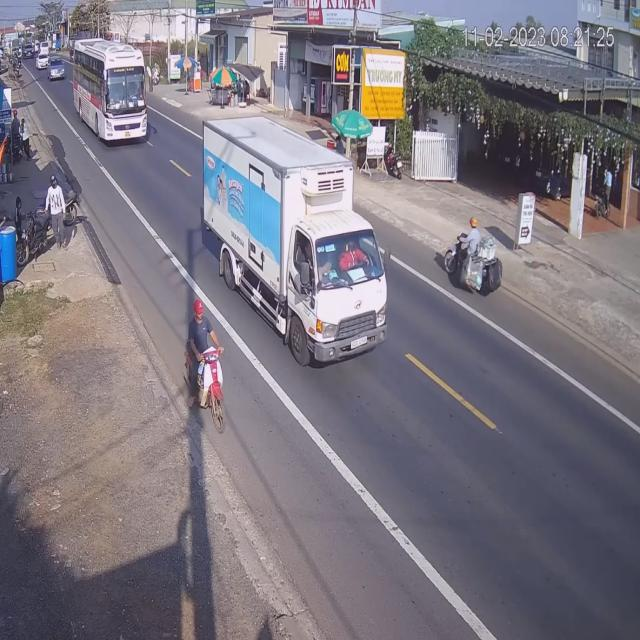bus: (75, 38, 150, 146)
car: (51, 54, 68, 83)
motorbike: (442, 217, 499, 295), (188, 315, 226, 410)
truck: (200, 110, 390, 366)
